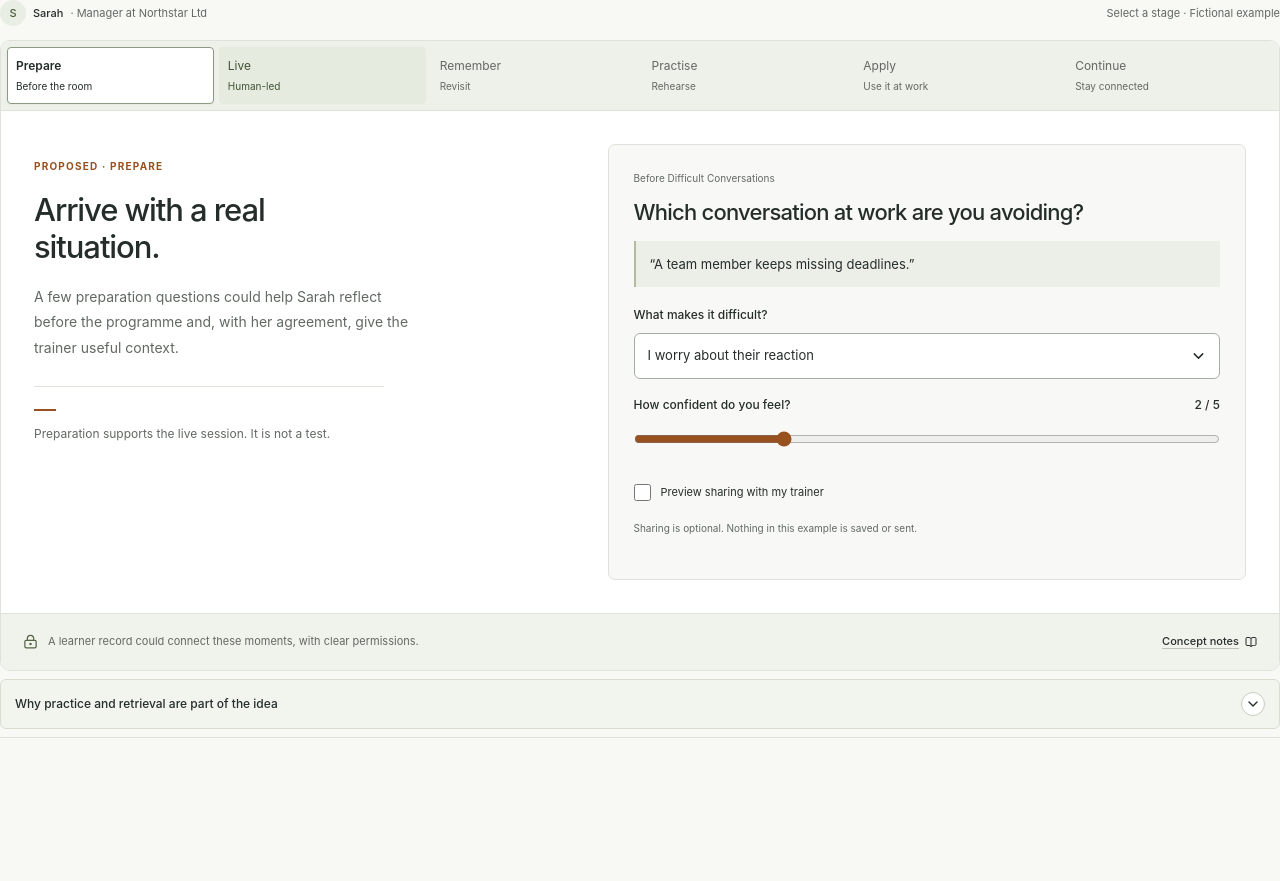
Test: previews AI formats without implying live generation or automatic instructor cloning
This screenshot has width=1280, height=881.
Click the tab "Practise Rehearse". click: (746, 75)
box: [642,47,849,104]
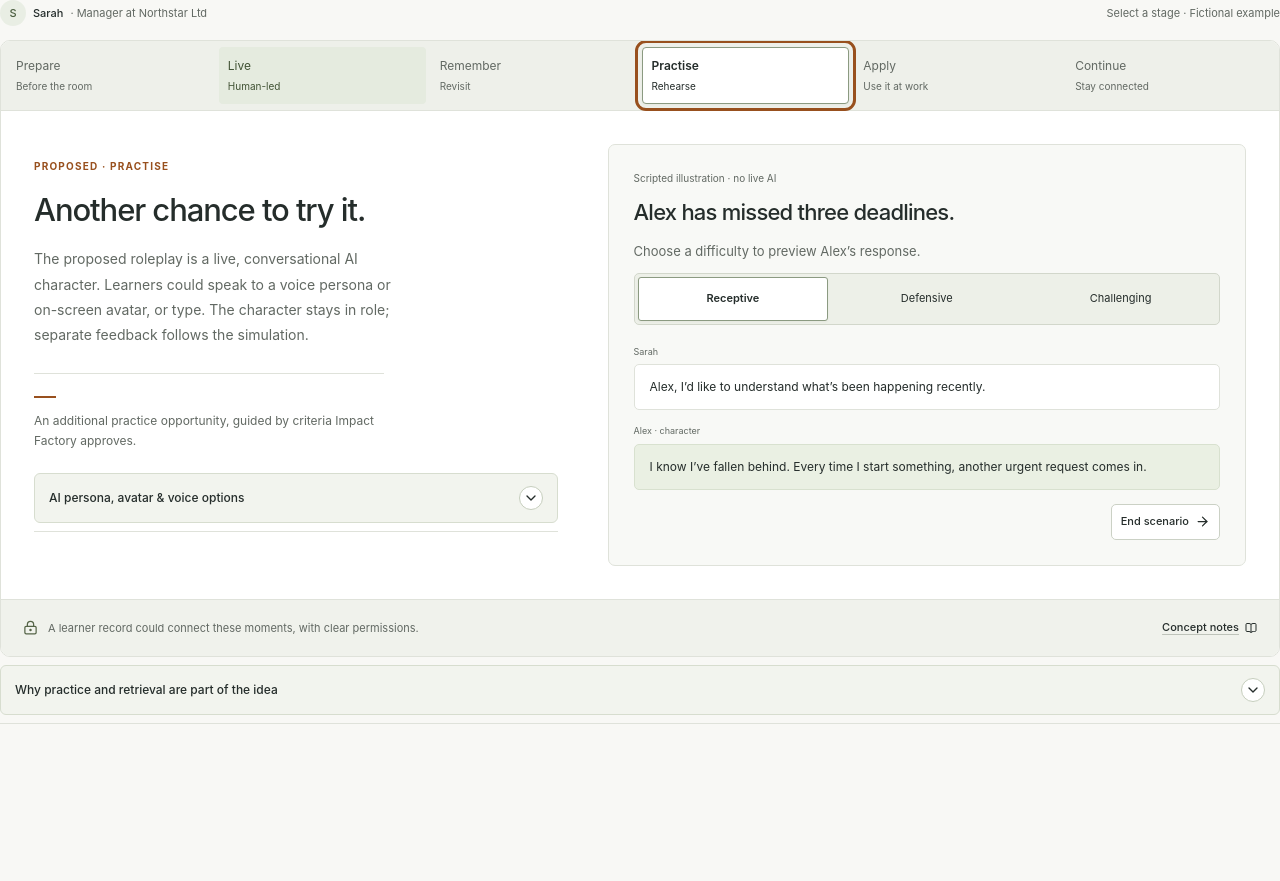
Click the heading "AI persona, avatar & voice options". click: (147, 497)
box: [34,473,558,523]
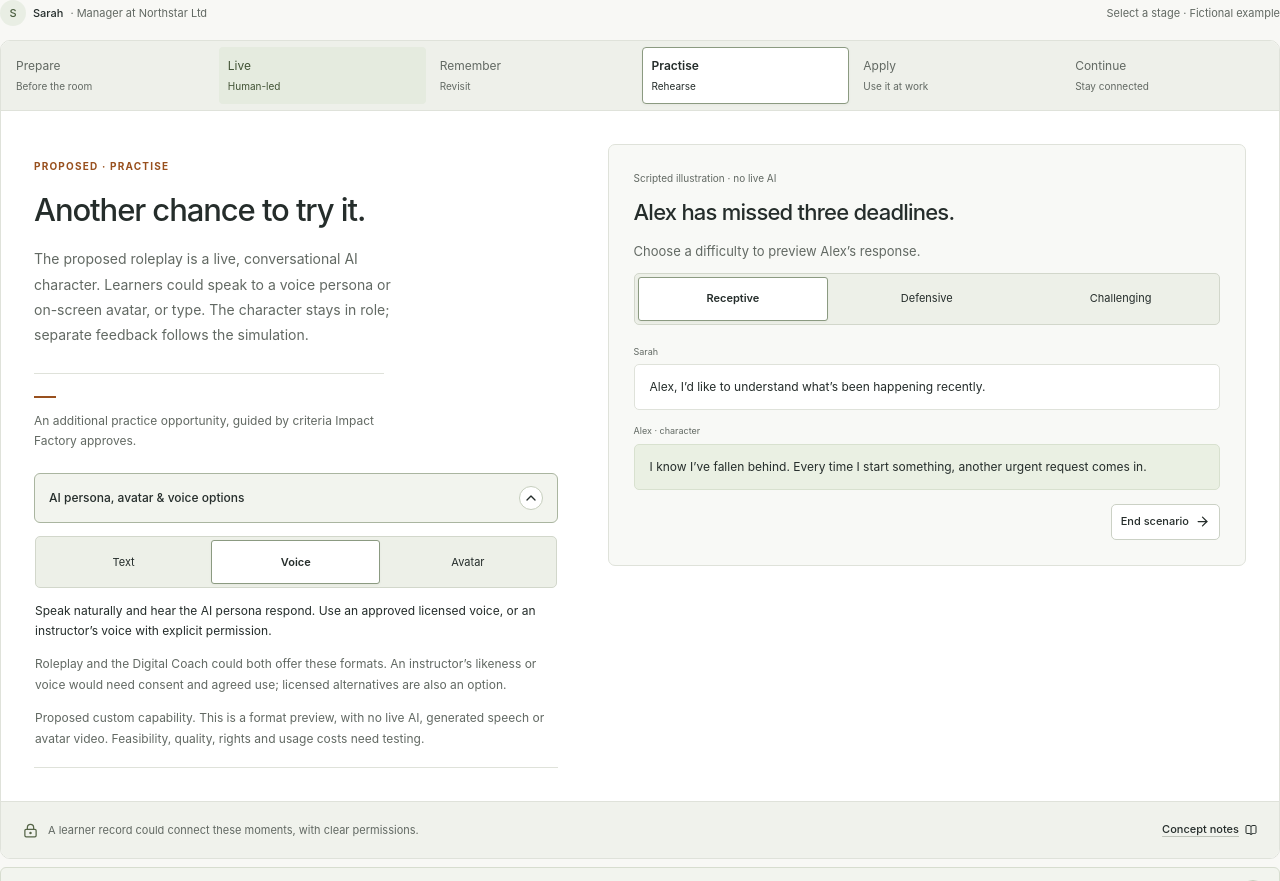
Click the button "Avatar". click: (468, 562)
box: [383,540,552,584]
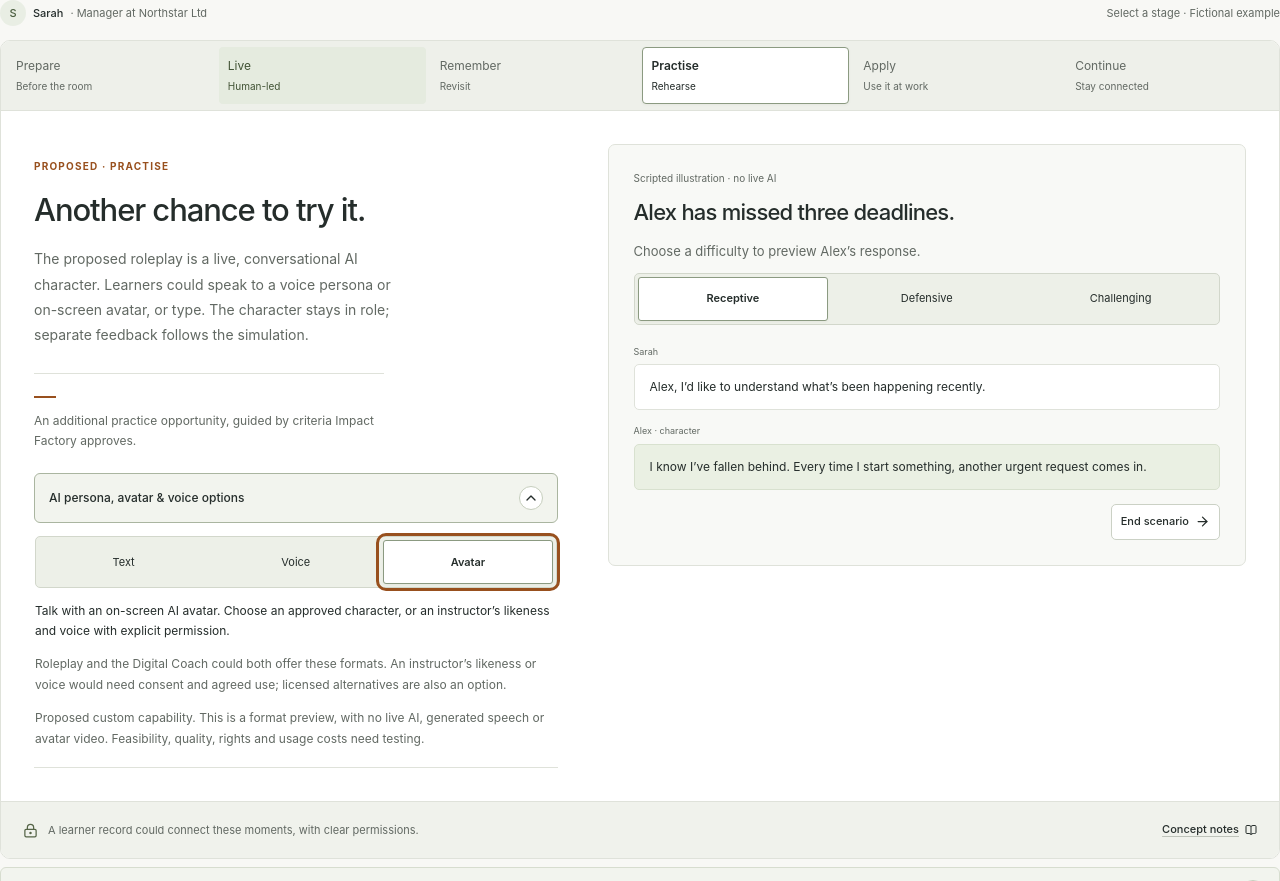
Check: the message shows "explicit permission", box [35,603,550,638]
Check: the text "no live AI, generated speech or avatar video" is shown, box [35,710,544,746]
Click the button "Text". click: (124, 562)
box: [39,540,208,584]
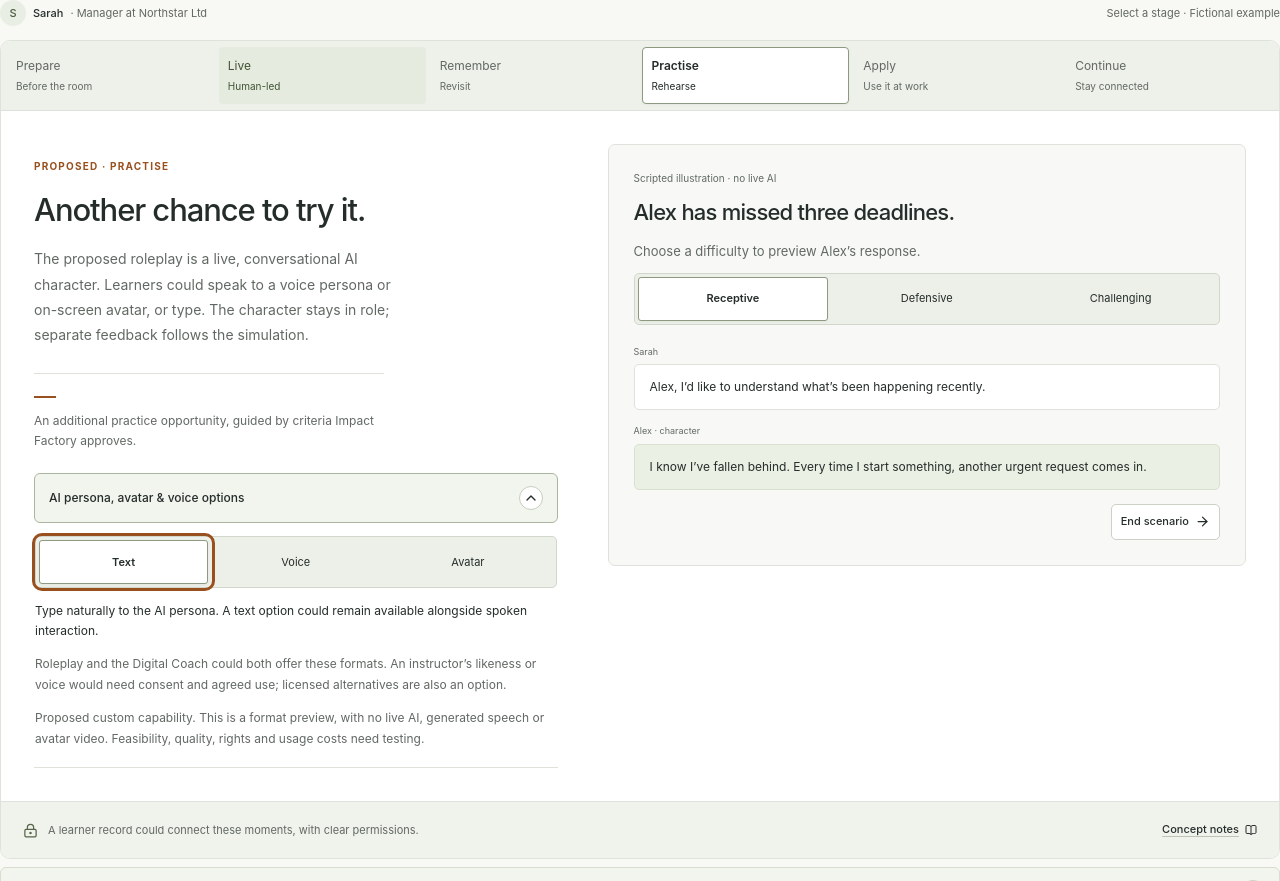
Check: the message shows "Type naturally", box [35,603,527,638]
